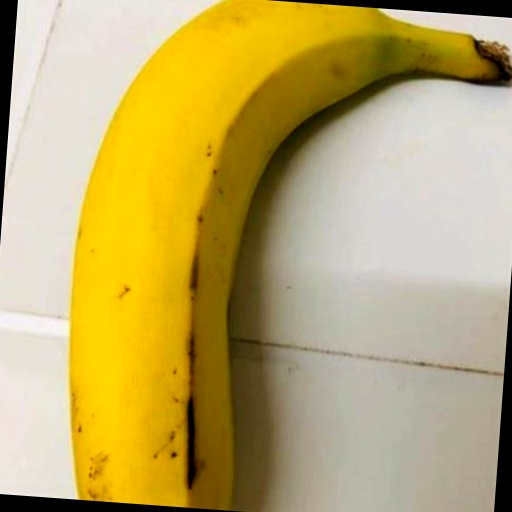fruit: (131, 0, 326, 8)
